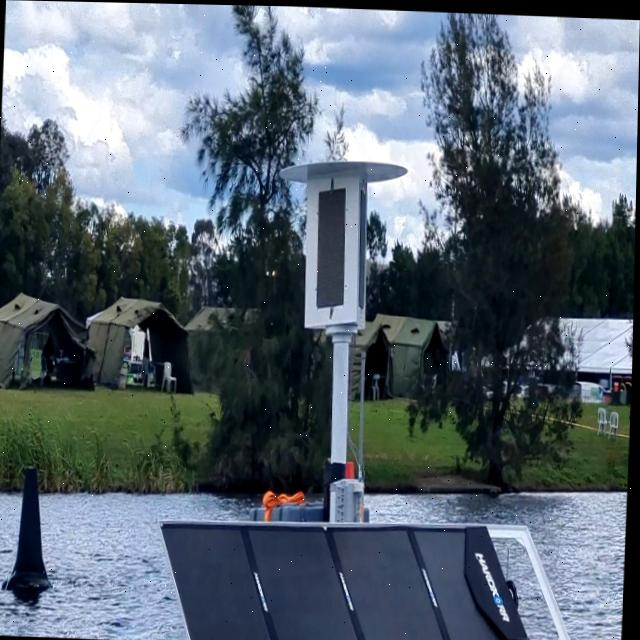led: (309, 176, 362, 315)
